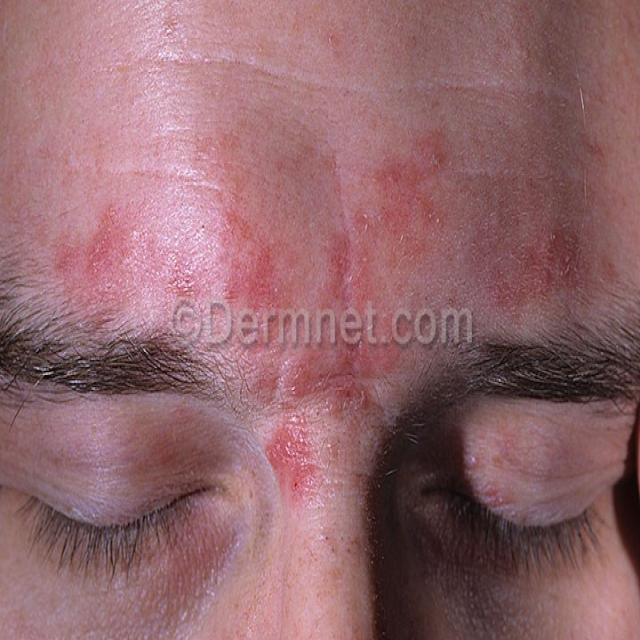Rosacea: (14, 130, 640, 365), (262, 408, 327, 503)
